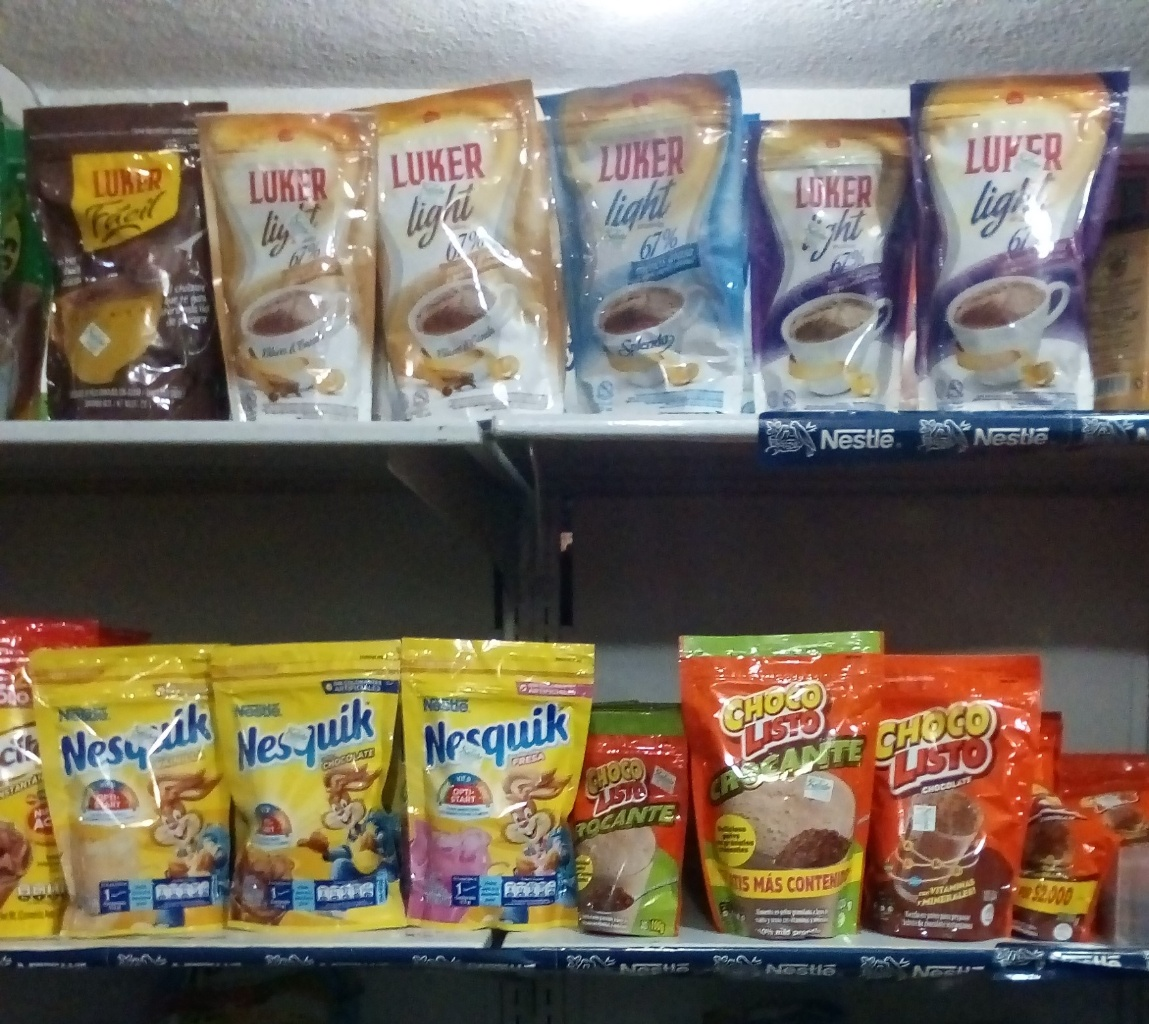COL0170102DYP10000: (581, 701, 703, 930)
COL0170102DYP25000: (687, 631, 889, 934)
COL0170103DYP20000: (876, 640, 1044, 947)
COL0170303DYP20000: (200, 633, 419, 935)
COL0170305DYP20000: (392, 629, 596, 924)
COL0170306DYP20000: (42, 638, 236, 938)
